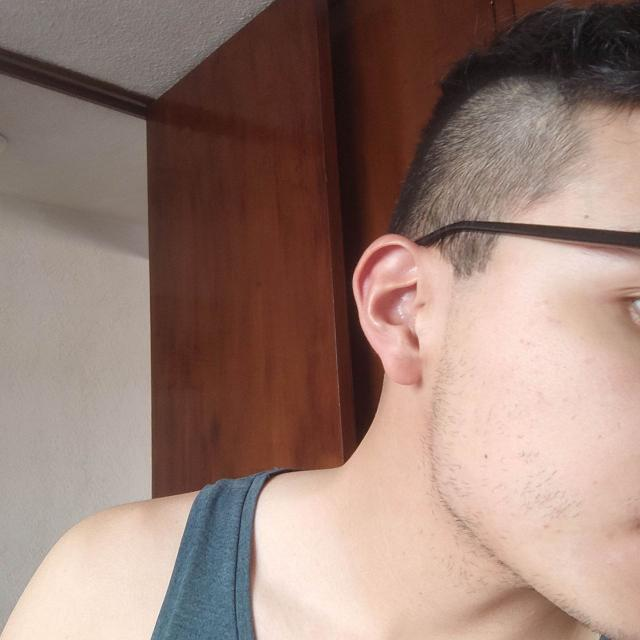ear: (354, 236, 426, 385)
